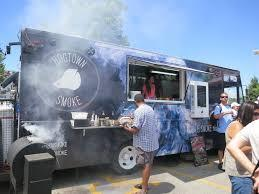smoke: (15, 2, 123, 150)
